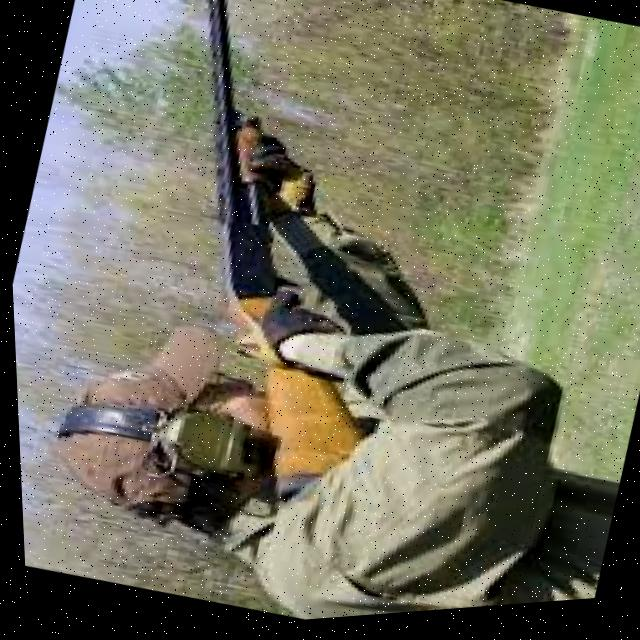firearm: (80, 0, 470, 536)
